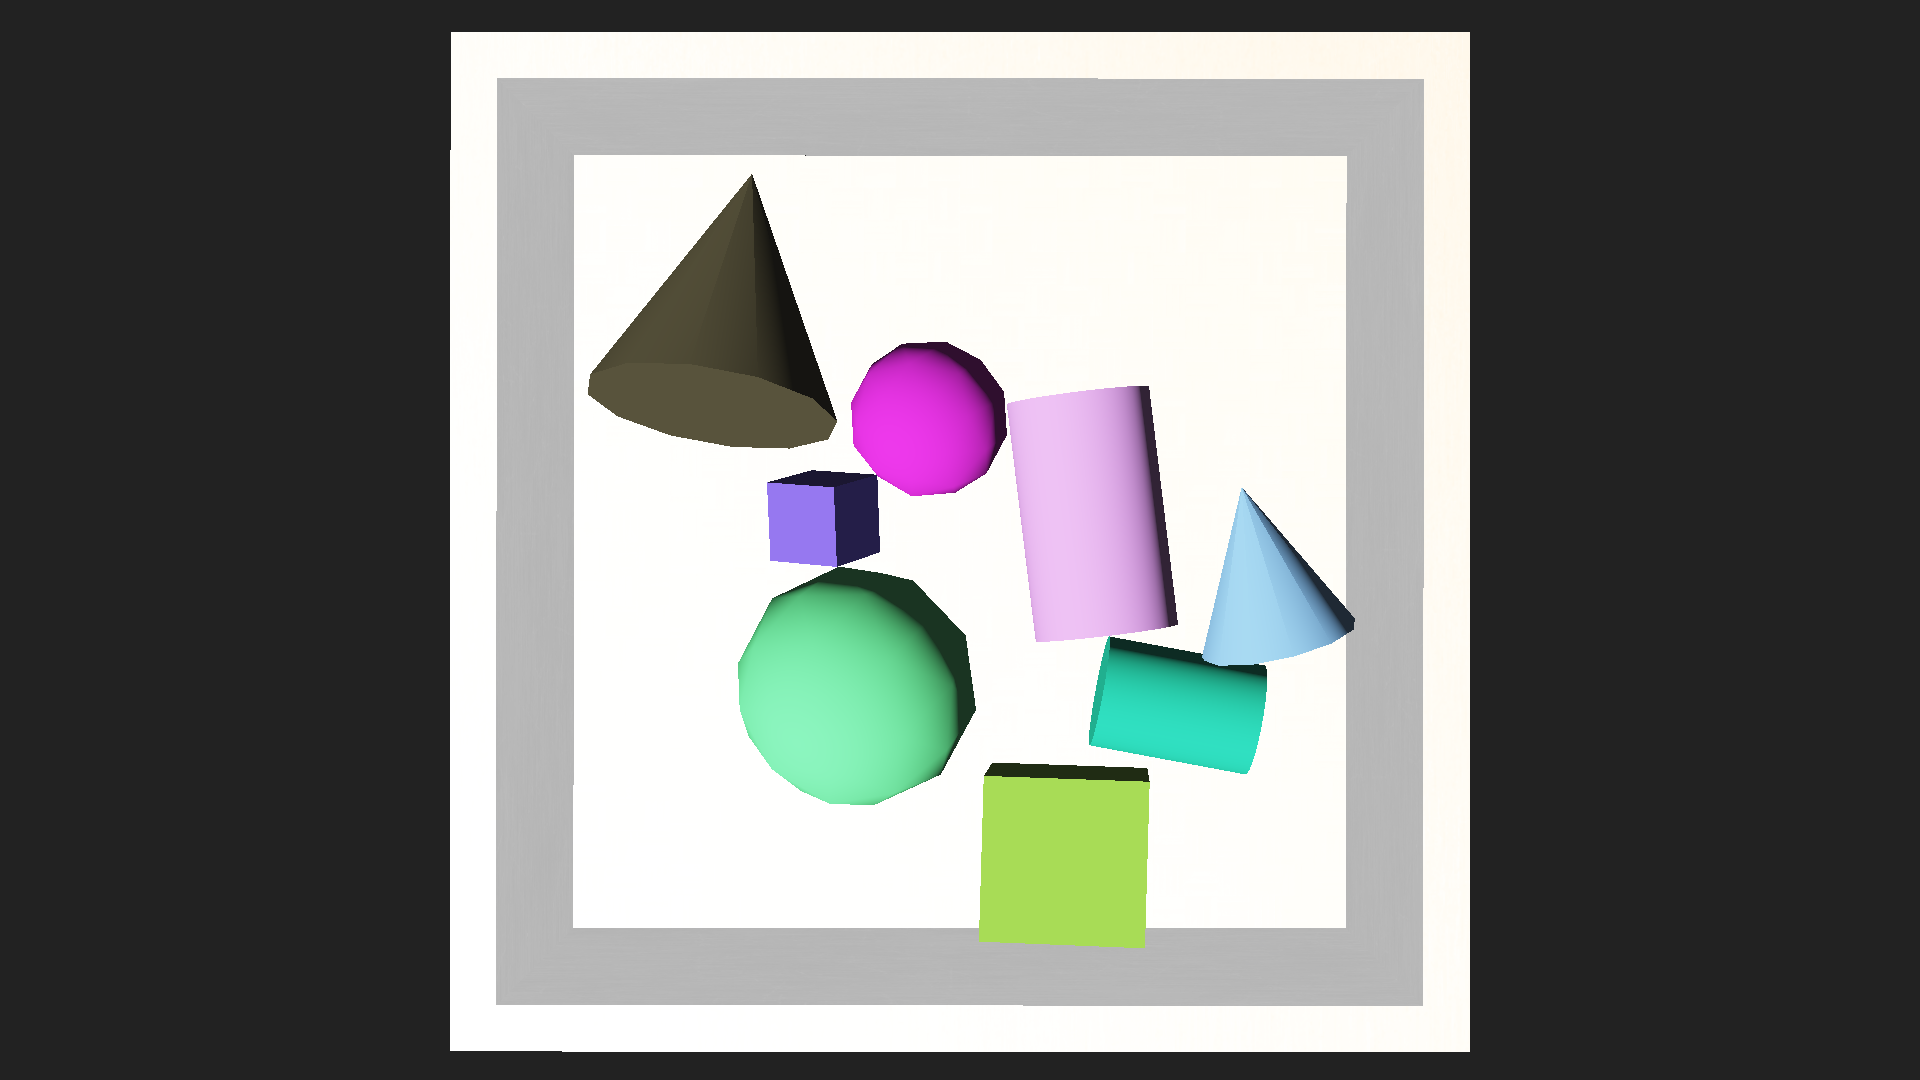3: (977, 760, 1160, 951), (764, 465, 881, 566)
cone: (1004, 381, 1184, 644), (1085, 633, 1271, 779)
cylinder: (501, 87, 924, 458), (1158, 452, 1369, 674)
sphere: (735, 564, 977, 807), (848, 338, 1007, 498)
